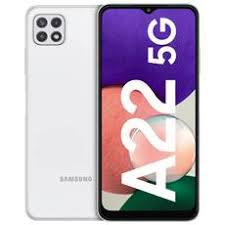Smartphone: (98, 6, 197, 217), (27, 10, 105, 219)
